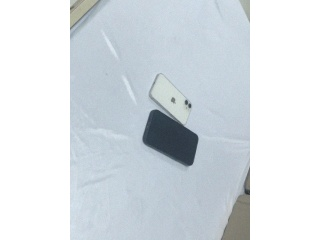phone: (142, 109, 199, 167), (149, 73, 192, 125)
